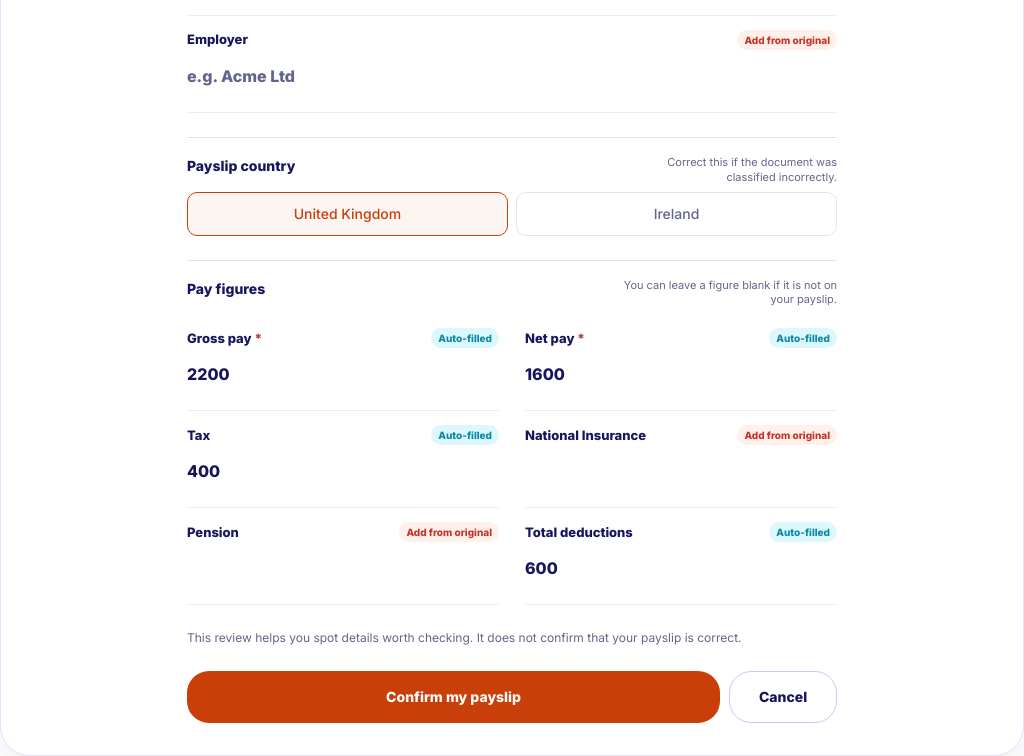
PayslipUpload processing failure › keeps a confirmed payslip successful when only its derived checks need retrying
The image size is (1024, 756).
(page scrolled)
Click the button "Confirm my payslip" at [454, 697], box [187,671,720,723]
(page scrolled)
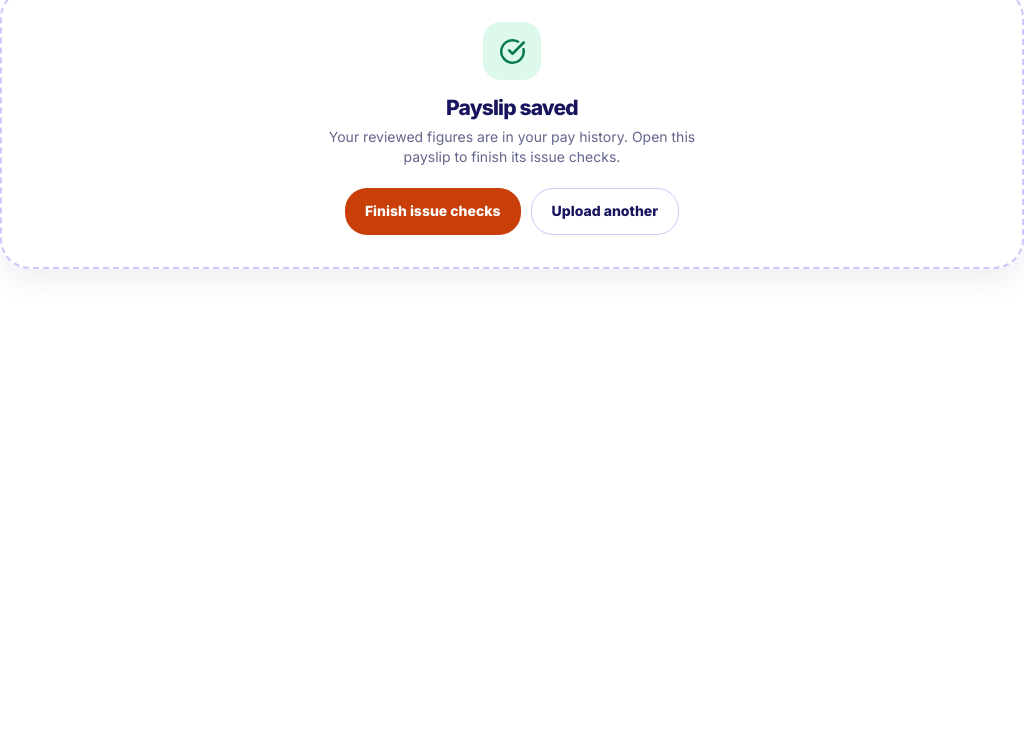
Expected: the heading "Payslip saved" is shown, [446,96,578,119]
